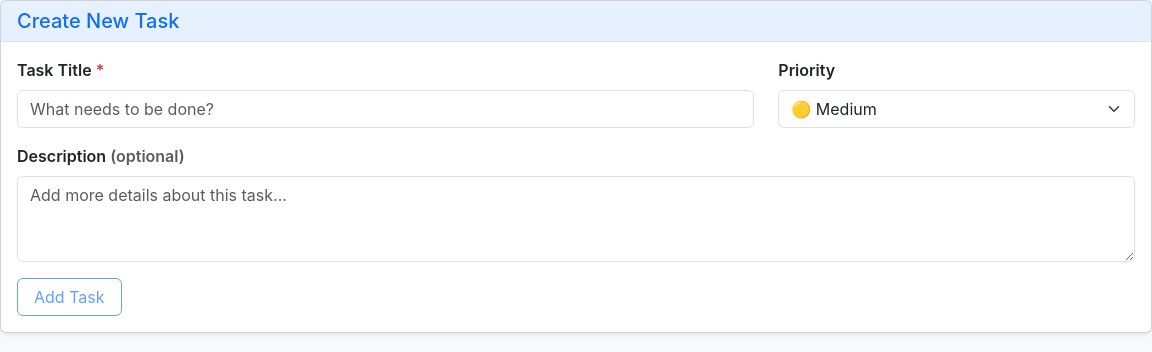
Test: TaskForm › enables submit button when title is filled
In the field labelled "Task Title *": {"x": 386, "y": 109} top-left (17, 90), bottom-right (754, 128), type "Test task"
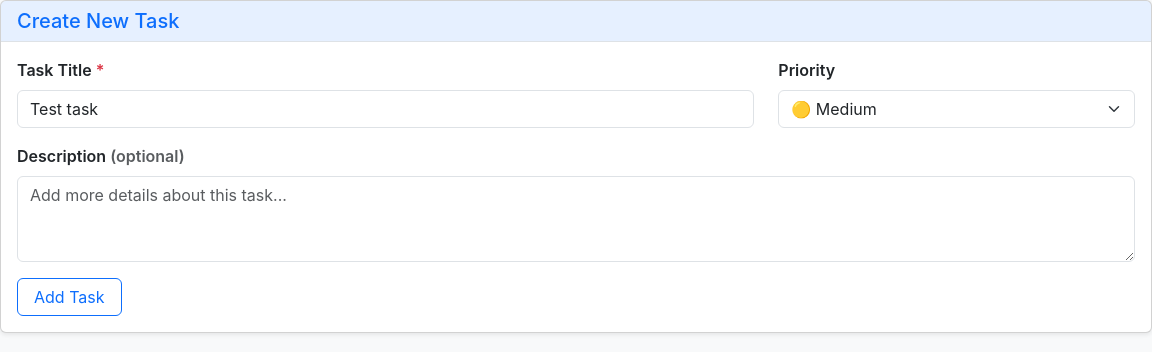
Expected: the button "Add Task" is enabled, top-left (17, 278), bottom-right (122, 316)
